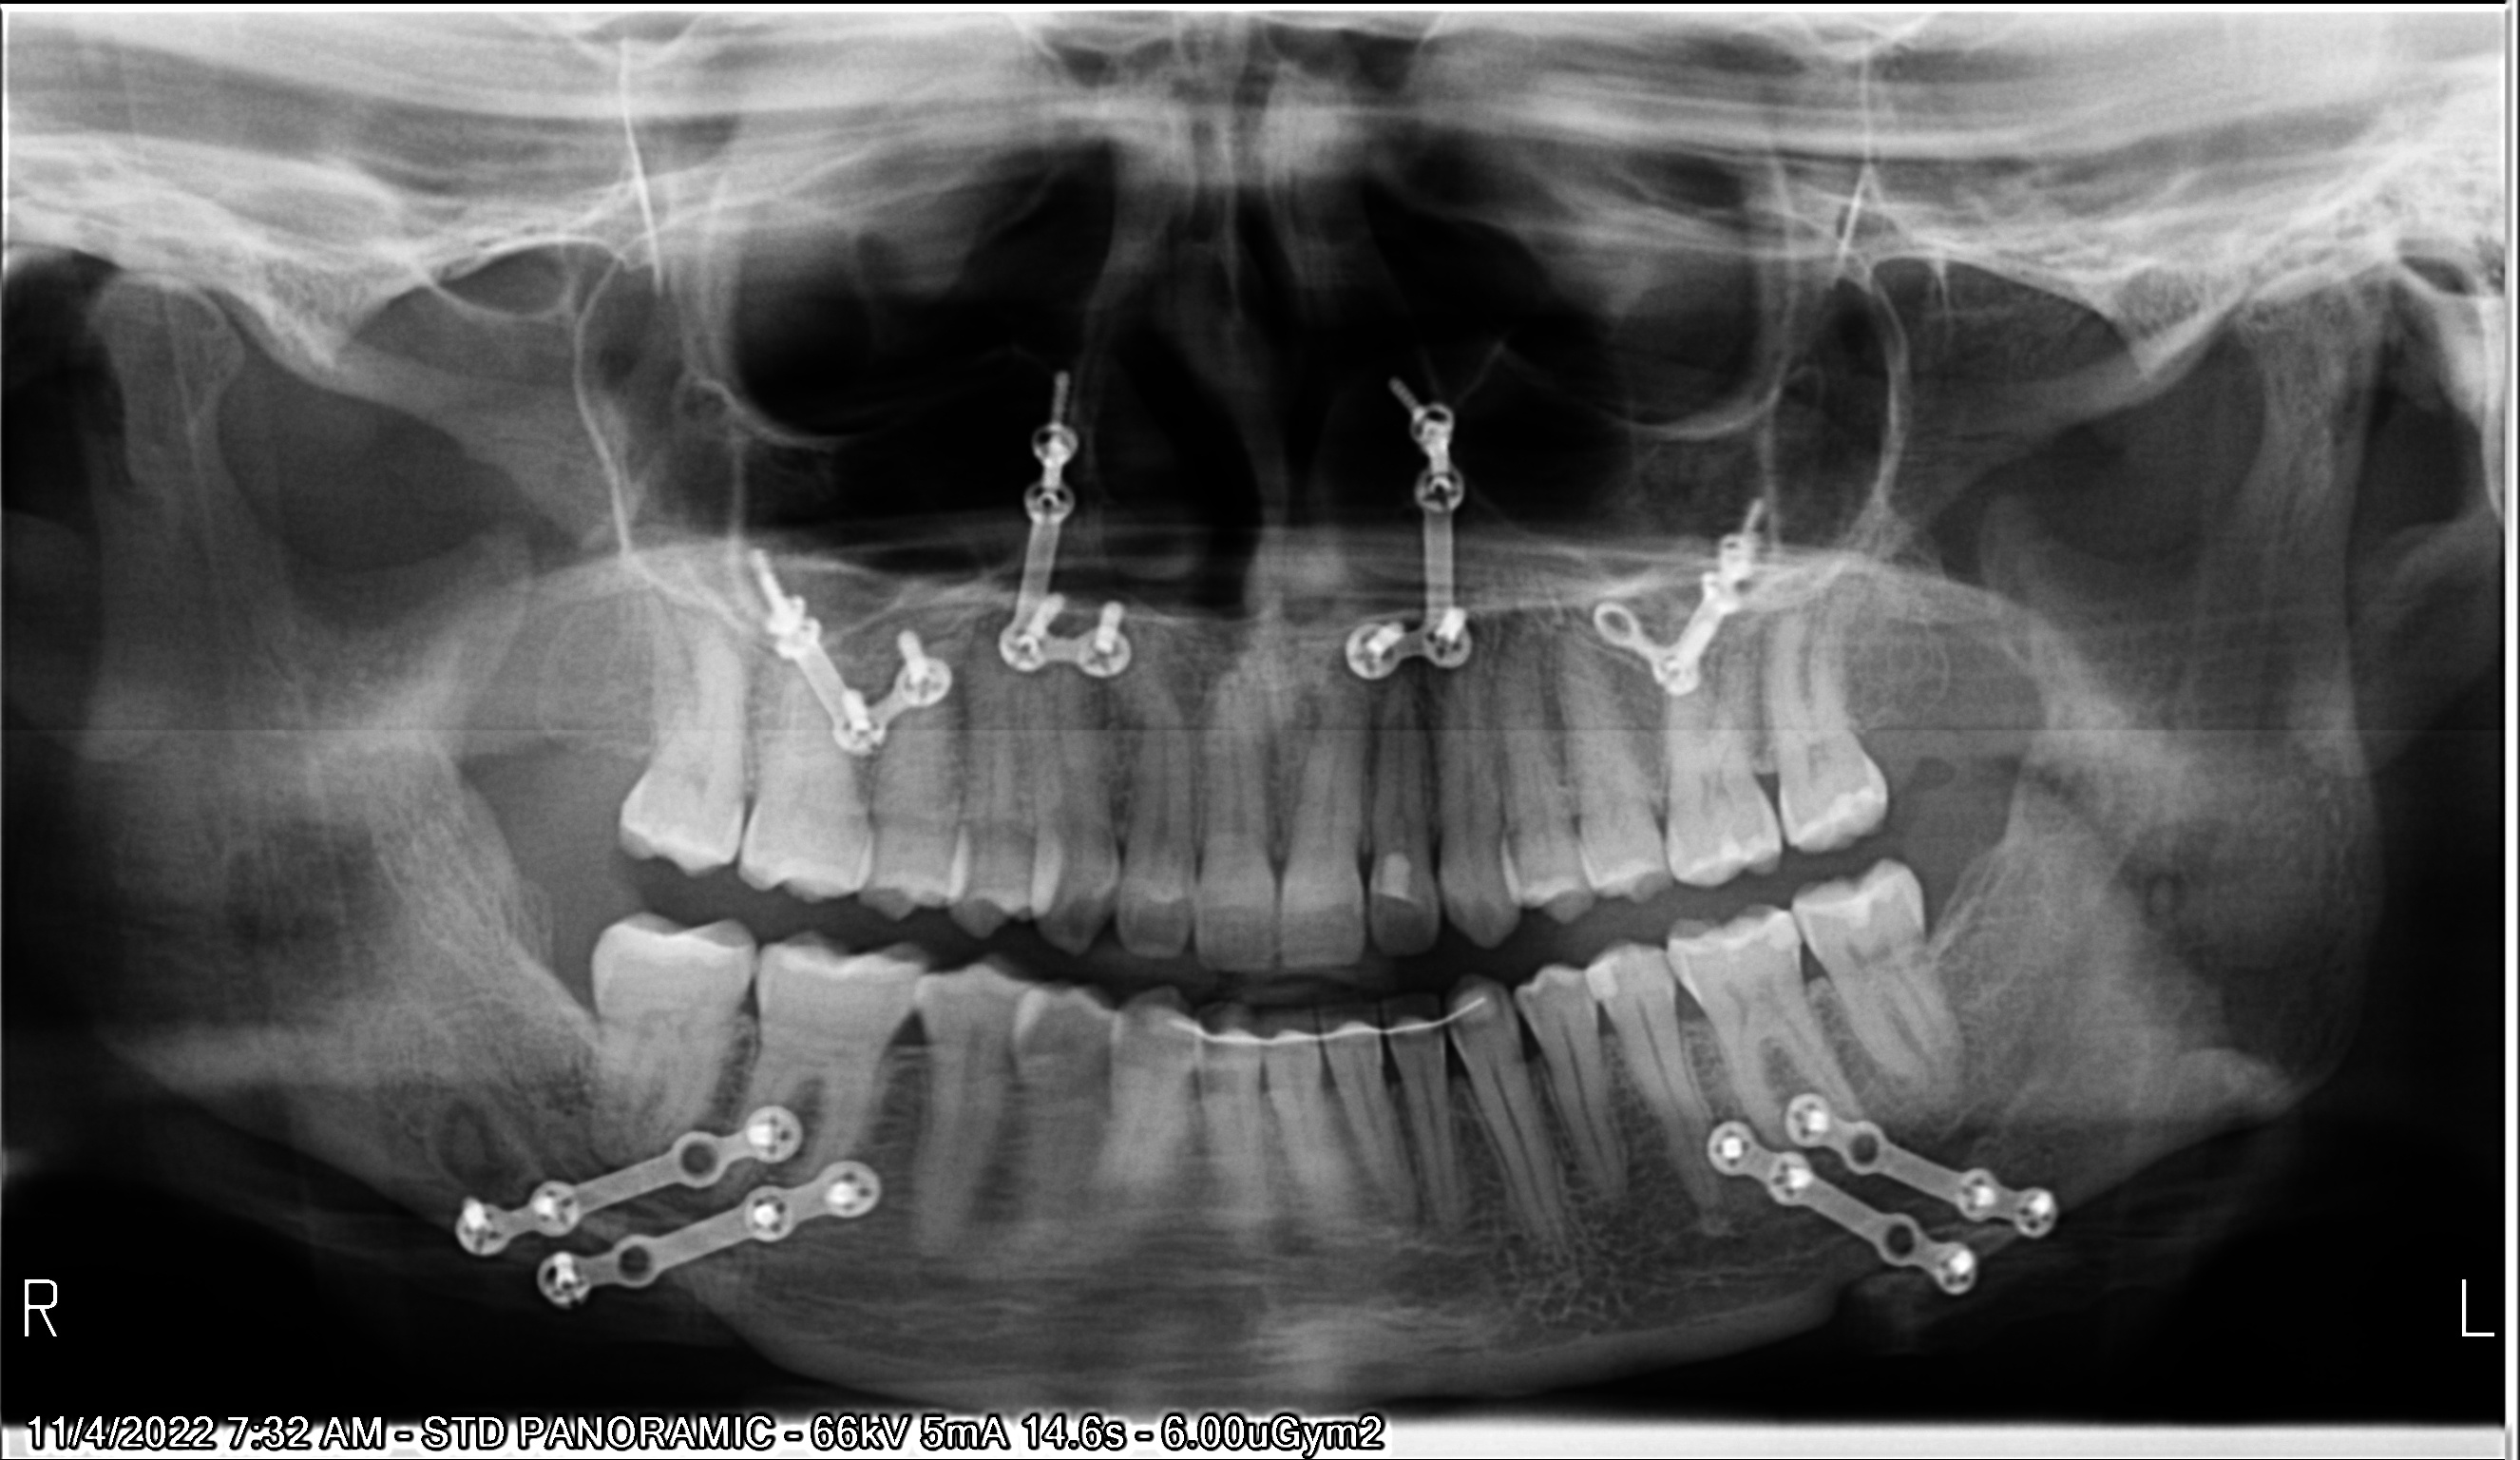OBT: (1377, 852, 1424, 902), (1586, 956, 1620, 999)
ORD: (1150, 989, 1501, 1057)
SRD: (453, 1098, 882, 1305), (1716, 1090, 2053, 1300), (728, 541, 960, 766), (974, 372, 1136, 681), (1351, 367, 1473, 683), (1591, 495, 1768, 697)
